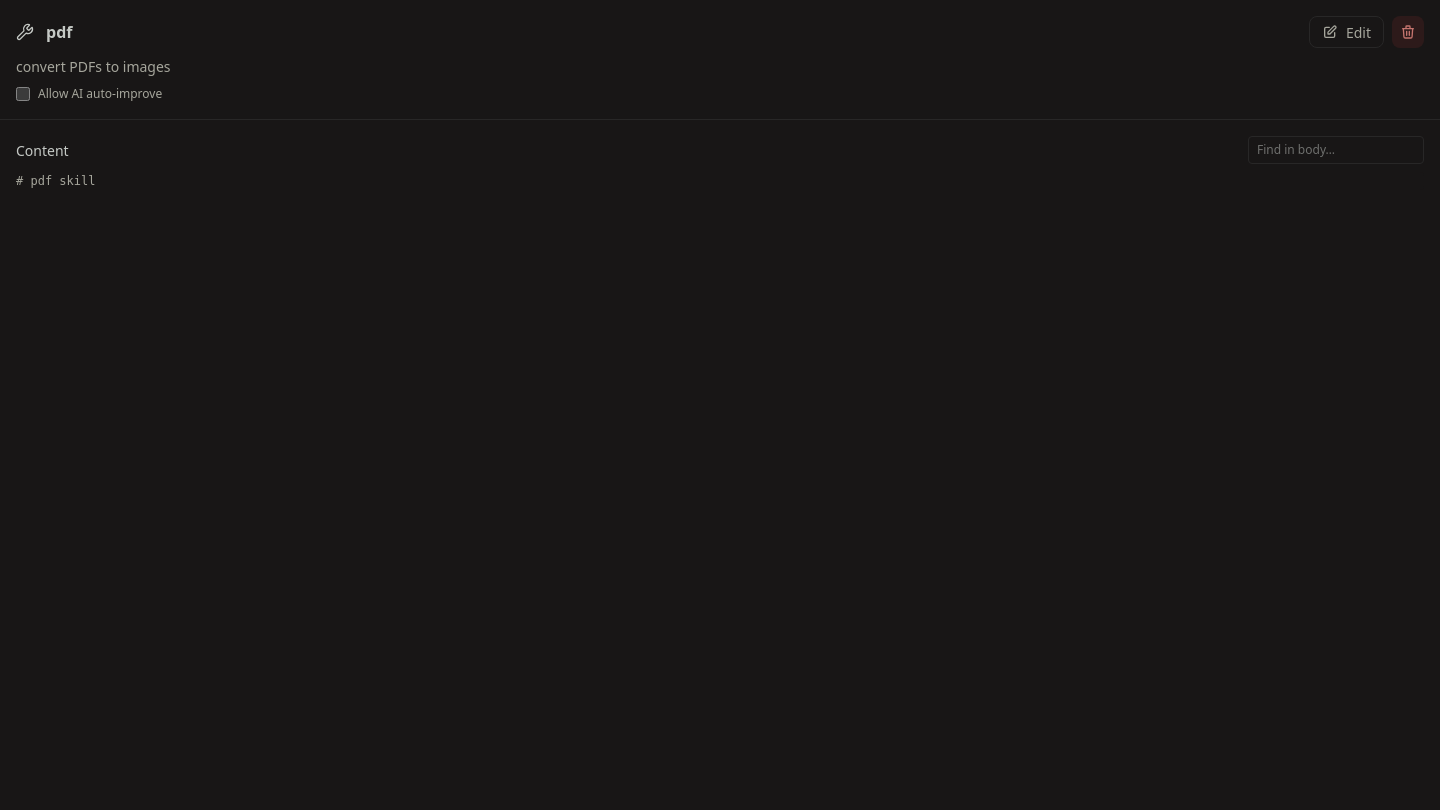
Test: SkillDetail — editing › disables Save until something actually changed
Click the button with test id "skill-edit-btn" at (1346, 32), box 1309,16 -> 1384,48
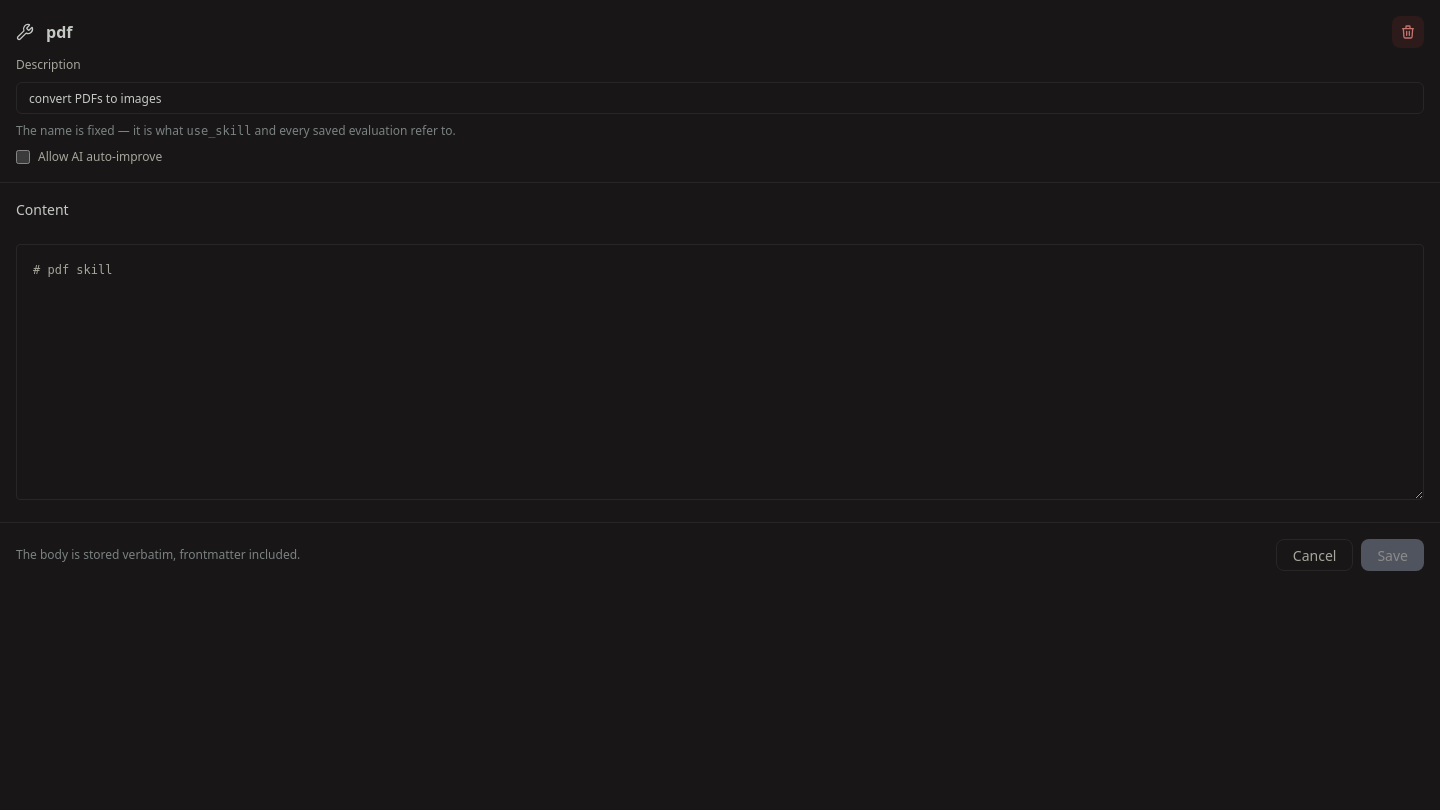
Result: the button with test id "skill-edit-save" is disabled at 1361,539 -> 1424,571
Replace the text in the text box with test id "skill-edit-content" with "# changed" at (720, 372), box 16,244 -> 1424,500
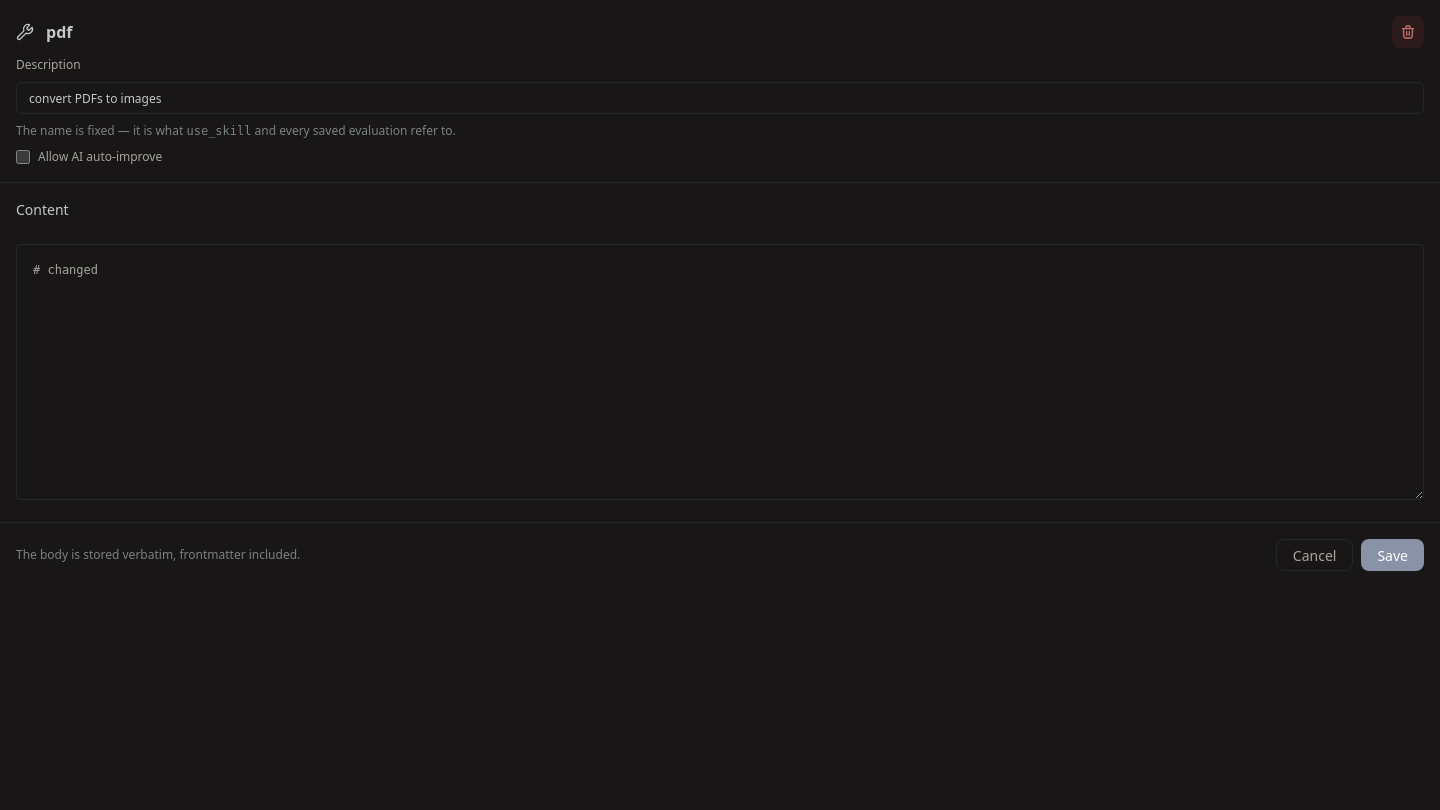
Result: the button with test id "skill-edit-save" is enabled at 1361,539 -> 1424,571
